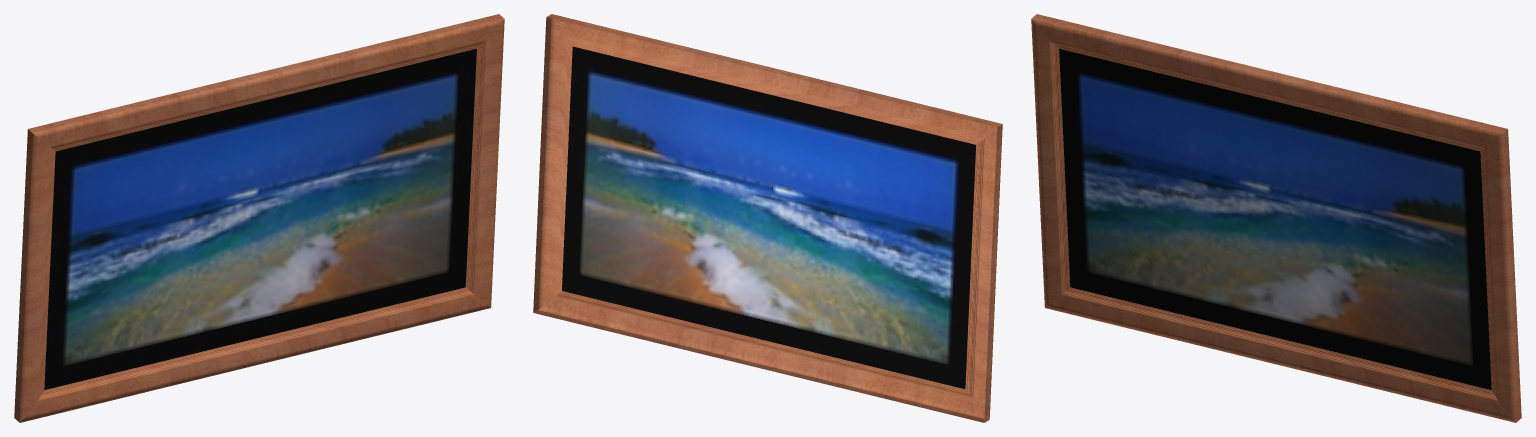
File: sweethome3d-contributions-picture-249.glb
3 renders of one model, left to right at view 1: azimuth 30°, elevation 25°; view 2: azimuth 150°, elevation 25°; view 3: azimuth 330°, elevation 25°, orthographic. The views are drawn at different scales.
Visible parts, largest first — view 1: Picture_5, Picture_3, Picture_4, Picture_1, Picture_2; view 2: Picture_5, Picture_4, Picture_3, Picture_2, Picture_1; view 3: Picture_5, Picture_3, Picture_4, Picture_2, Picture_1.
Part boxes in pixels (box(x1,y1,x2,y2)): Picture_5: box(44, 49, 476, 389); Picture_3: box(28, 14, 504, 151); Picture_4: box(20, 287, 490, 422); Picture_1: box(14, 129, 55, 422); Picture_2: box(465, 19, 504, 307); Picture_5: box(562, 46, 975, 388); Picture_4: box(533, 291, 984, 422); Picture_3: box(546, 14, 1002, 144); Picture_2: box(533, 17, 572, 312); Picture_1: box(965, 124, 1002, 422); Picture_5: box(1059, 49, 1491, 389); Picture_3: box(1031, 14, 1507, 151); Picture_4: box(1045, 287, 1515, 422); Picture_2: box(1480, 129, 1521, 422); Picture_1: box(1031, 19, 1070, 307).
Bounding box in the file's own units: 134 × 81.46 × 9.49.
Materials: 2 (2 with a texture image).
